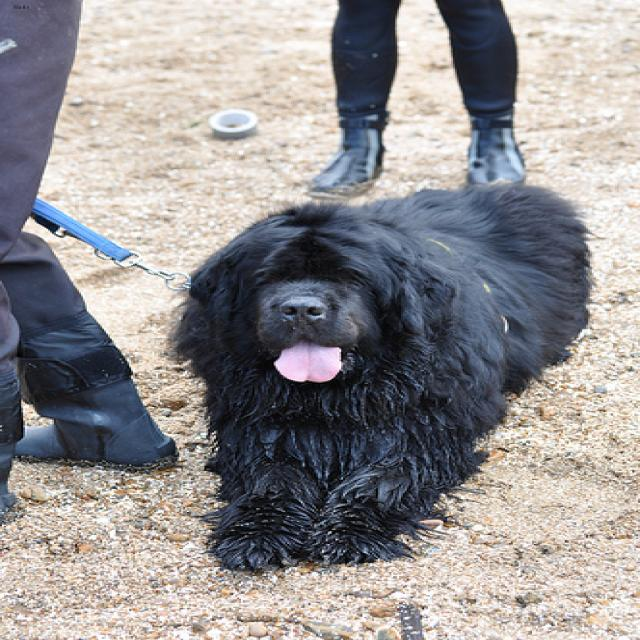dog-newfoundland: (147, 179, 615, 576)
